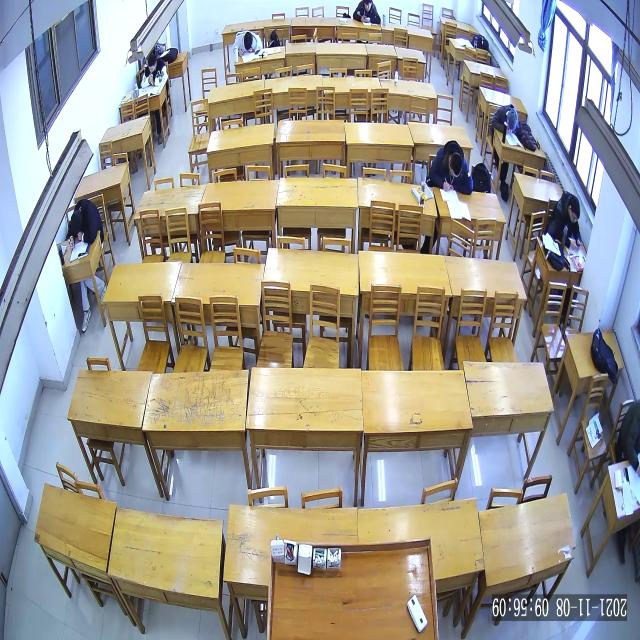bow: (429, 140, 474, 194), (68, 199, 104, 248), (491, 103, 519, 133), (232, 30, 262, 56)
down: (449, 152, 463, 177), (568, 196, 580, 223), (70, 211, 82, 233), (508, 108, 518, 131), (244, 30, 254, 50), (148, 54, 156, 74)
sit: (550, 191, 582, 249), (142, 54, 168, 88)
